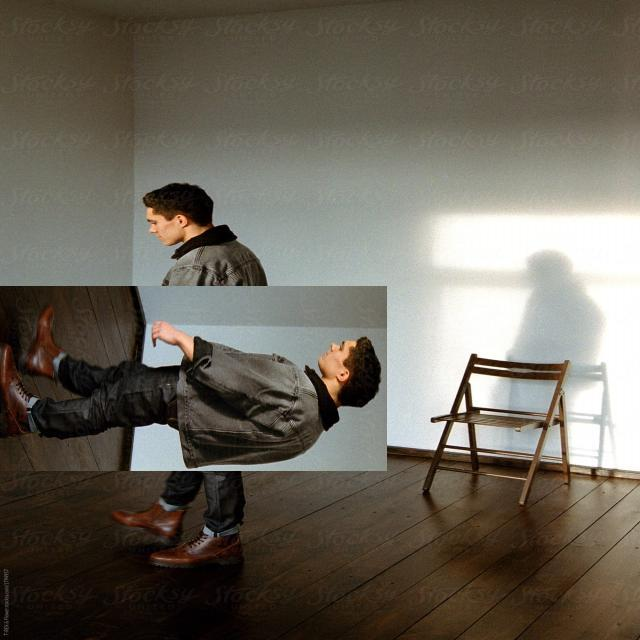NotFall: (15, 304, 381, 476)
